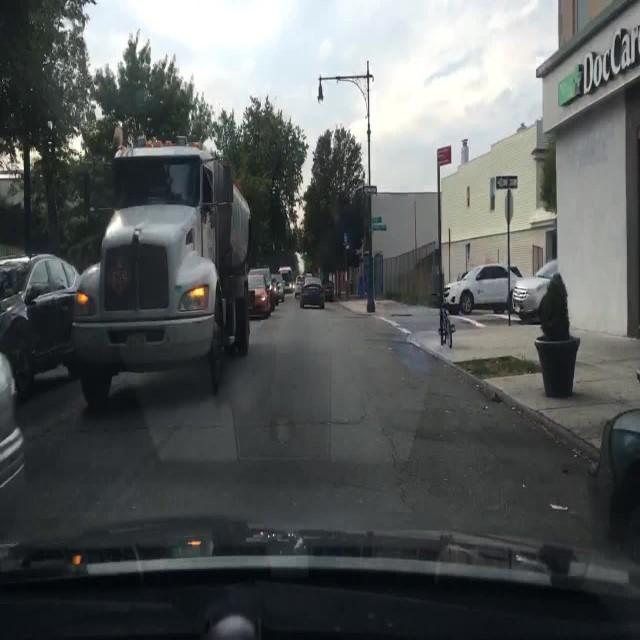normal: (69, 145, 253, 414)
